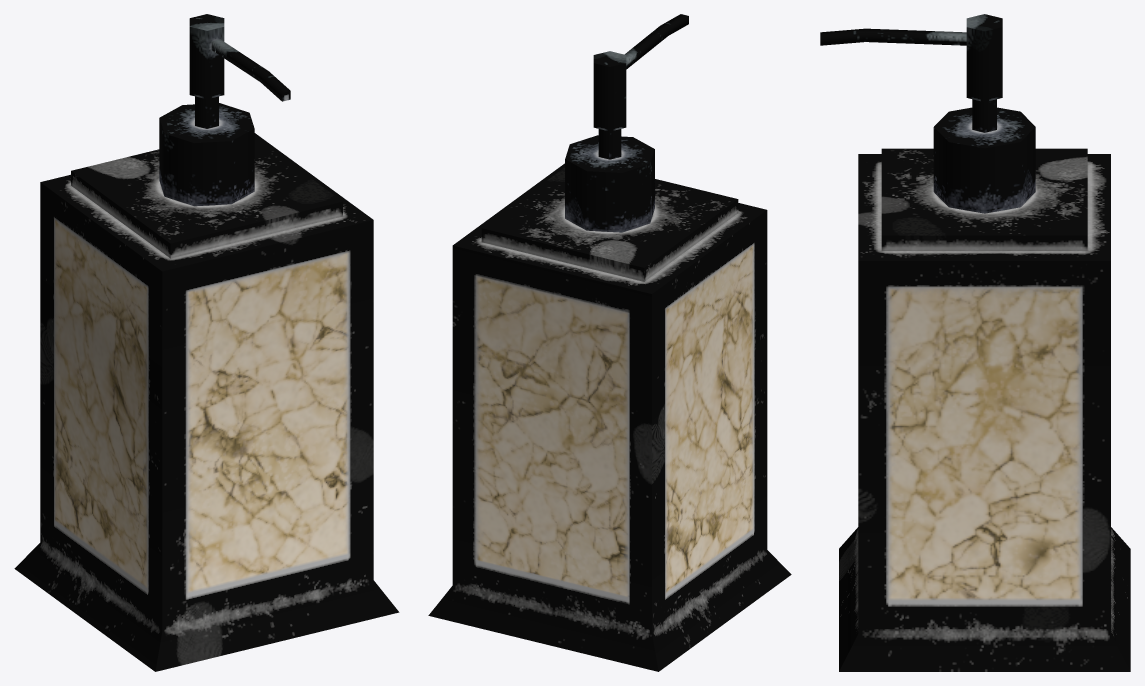
Rendered from Soap.FBX.
The picture shows the model from 3 angles, left to right: view 1: azimuth 30°, elevation 25°; view 2: azimuth 150°, elevation 25°; view 3: azimuth 270°, elevation 25°; orthographic projection. The views are drawn at different scales.
Parts seen in each view (by area): view 1: Soap_LOD0; view 2: Soap_LOD0; view 3: Soap_LOD0.
Boxes of the visible parts, x1,y1,x2,y2 form: Soap_LOD0: (14, 14, 399, 671); Soap_LOD0: (428, 14, 791, 671); Soap_LOD0: (820, 14, 1130, 671).
Size of what is drawn, in the model's own units: 7.12 by 15.84 by 7.57.
